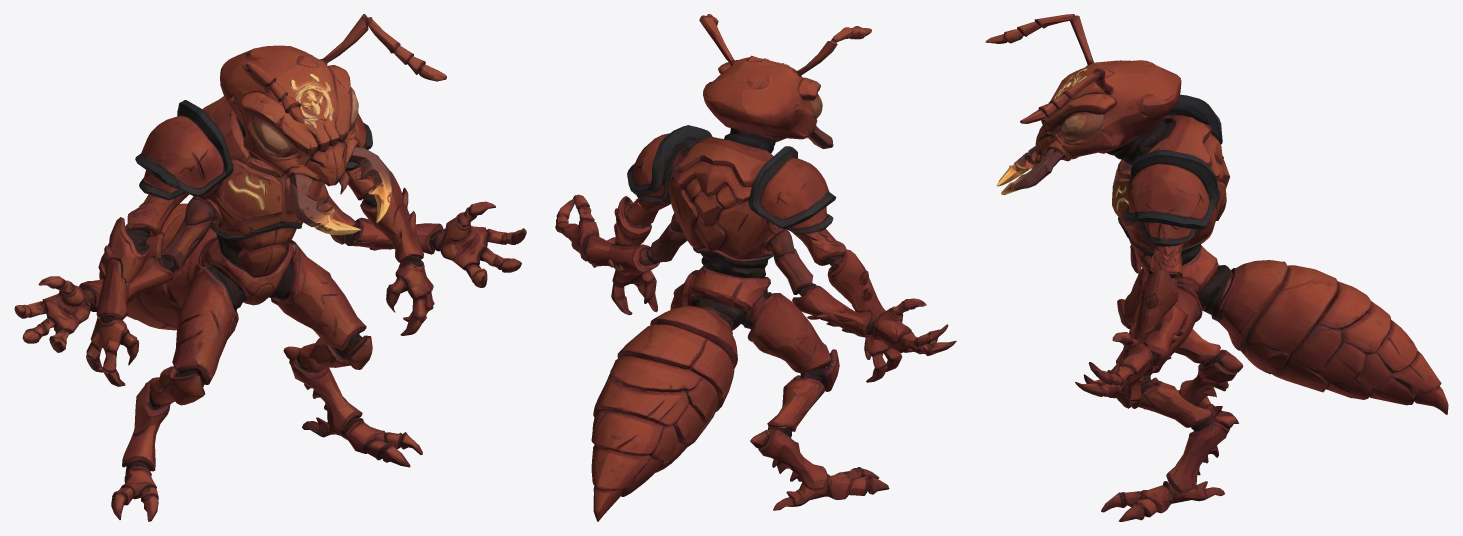
Rendered from asker-D6CLgjkT.glb.
3 views of the same model, side by side, from view 1: azimuth 30°, elevation 25°; view 2: azimuth 150°, elevation 25°; view 3: azimuth 270°, elevation 25° (orthographic). The views are drawn at different scales.
Visible parts, largest first — view 1: torso, head, leg_R_thigh, leg_L_thigh, arm_RU_upper, gaster, leg_L_foot, hand_LL, leg_R_foot, hand_RL, mandible_R, mandible_L (+13 smaller); view 2: gaster, torso, head, arm_RU_upper, leg_R_thigh, leg_R_foot, arm_LU_upper, arm_RL_lower, hand_RL, arm_LL_lower, leg_R_shin, arm_RL_upper (+6 smaller); view 3: gaster, head, torso, arm_LU_upper, leg_L_foot, hand_LL, leg_R_foot, leg_L_thigh, leg_L_shin, mandible_L, antenna_L, arm_LL_lower (+5 smaller).
Part boxes in pixels (x1,y1,x2,y2): torso: [173, 96, 349, 292]; head: [186, 14, 363, 160]; leg_R_thigh: [170, 263, 254, 405]; leg_L_thigh: [269, 240, 372, 369]; arm_RU_upper: [110, 116, 206, 250]; gaster: [98, 203, 274, 330]; leg_L_foot: [283, 346, 422, 467]; hand_LL: [425, 201, 526, 287]; leg_R_foot: [111, 380, 169, 521]; hand_RL: [14, 276, 100, 352]; mandible_R: [253, 153, 357, 235]; mandible_L: [318, 132, 393, 233]; gaster: [591, 278, 766, 521]; torso: [665, 127, 816, 303]; head: [674, 16, 835, 162]; arm_RU_upper: [758, 164, 863, 282]; leg_R_thigh: [749, 285, 839, 391]; leg_R_foot: [750, 426, 889, 510]; arm_LU_upper: [616, 133, 680, 234]; arm_RL_lower: [803, 281, 883, 347]; hand_RL: [862, 298, 956, 355]; arm_LL_lower: [587, 225, 659, 276]; leg_R_shin: [767, 378, 828, 441]; arm_RL_upper: [764, 226, 814, 312]; gaster: [1189, 260, 1448, 414]; head: [1040, 14, 1197, 169]; torso: [1112, 94, 1229, 288]; arm_LU_upper: [1123, 155, 1220, 293]; leg_L_foot: [1101, 416, 1235, 521]; hand_LL: [1075, 332, 1169, 396]; leg_R_foot: [1144, 349, 1243, 423]; leg_L_thigh: [1107, 282, 1202, 408]; leg_L_shin: [1138, 382, 1220, 437]; mandible_L: [996, 126, 1089, 195]; antenna_L: [1020, 68, 1132, 123]; arm_LL_lower: [1138, 304, 1187, 359].
Size of the model in its own units: 1.9 by 1.78 by 1.76.
1 material, 1 textured.
